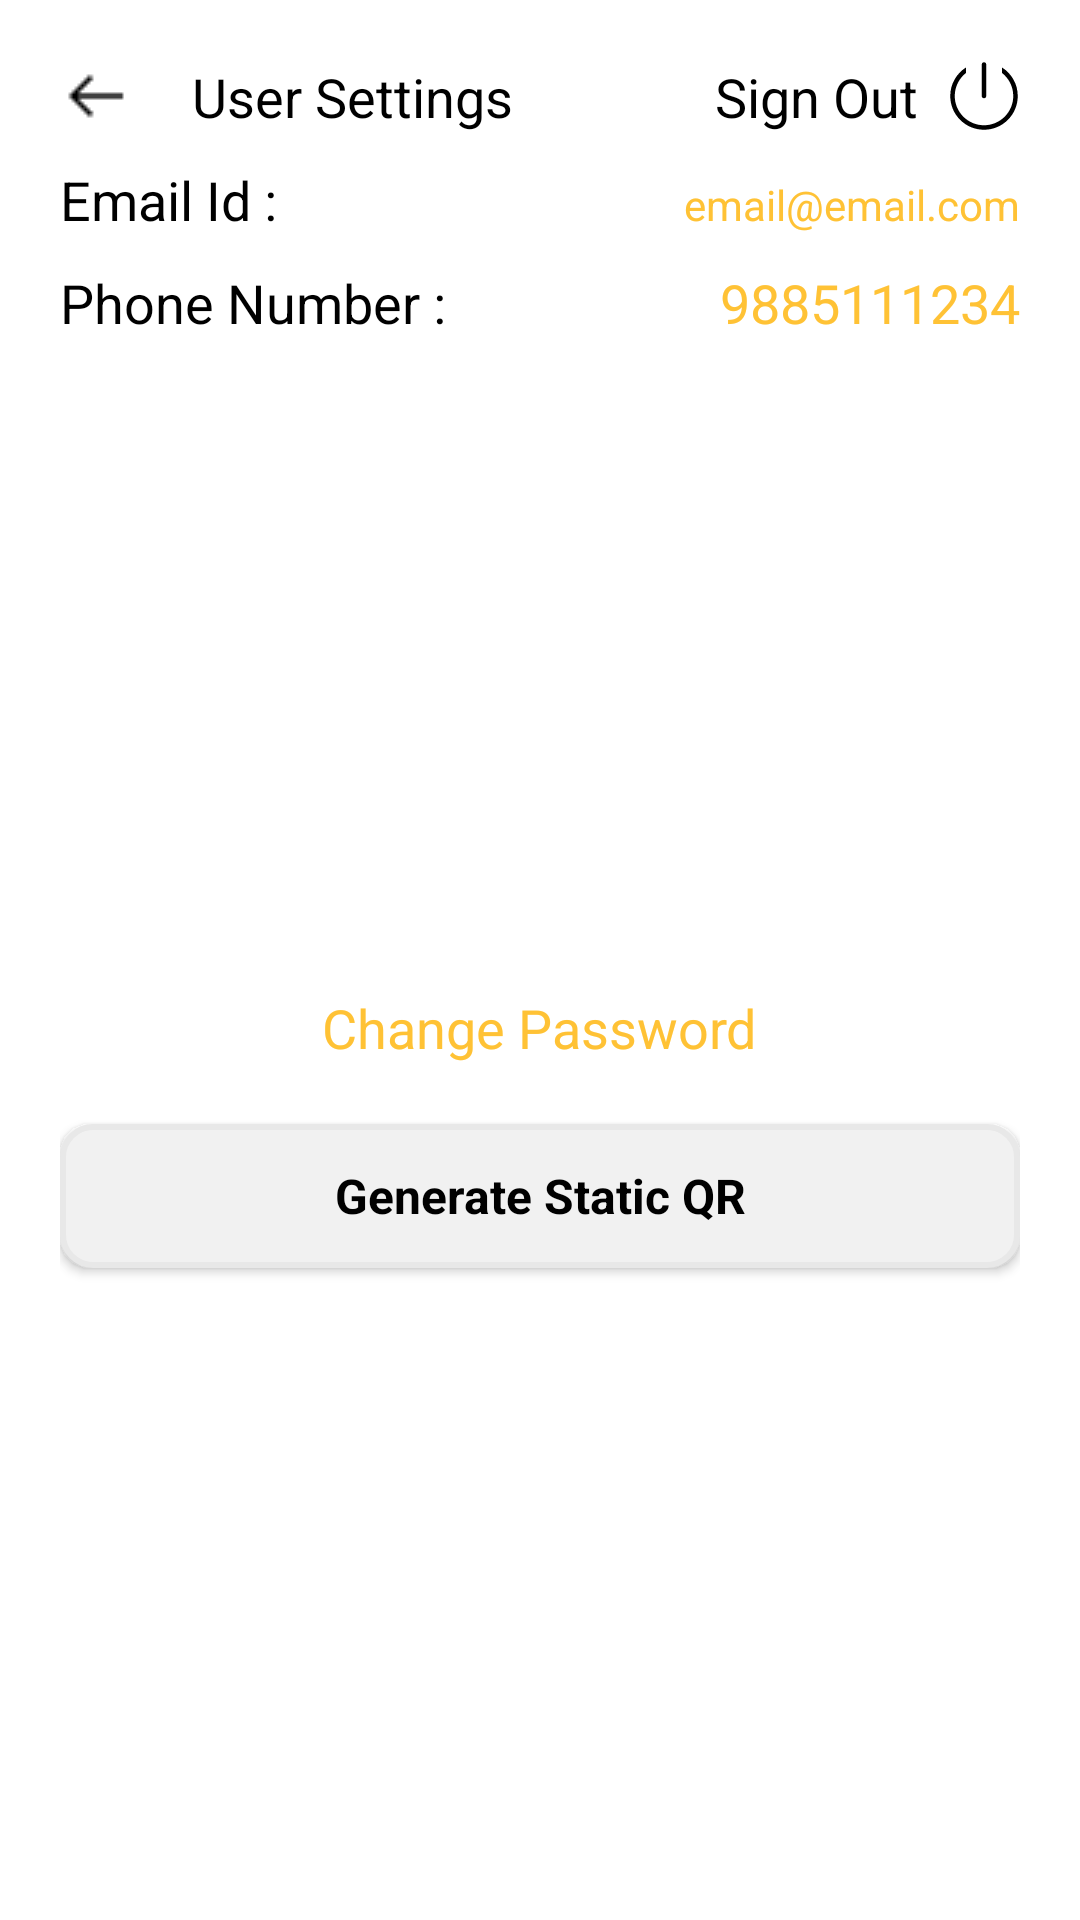

Icons on this 1080x1920 Android screen, each with its box as [x1,y1,x2,y2]:
back: [68,74,124,118]
